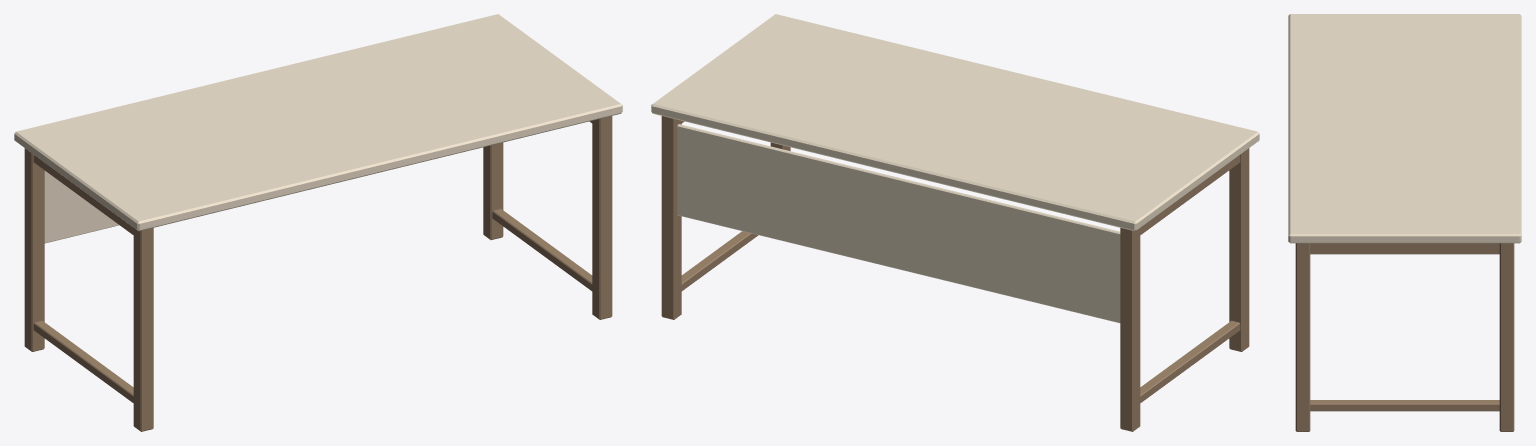
File: mesa_escritorio.obj
3 renders of one model, left to right at view 1: azimuth 30°, elevation 25°; view 2: azimuth 150°, elevation 25°; view 3: azimuth 270°, elevation 25°, orthographic. The views are drawn at different scales.
Visible parts, largest first — view 1: mesa_escritorio; view 2: mesa_escritorio; view 3: mesa_escritorio.
Part boxes in pixels (x1,y1,x2,y2): mesa_escritorio: (14, 14, 622, 431); mesa_escritorio: (651, 14, 1259, 431); mesa_escritorio: (1288, 14, 1521, 431).
Size of the model in its own units: 1.8 by 0.76 by 0.8.
